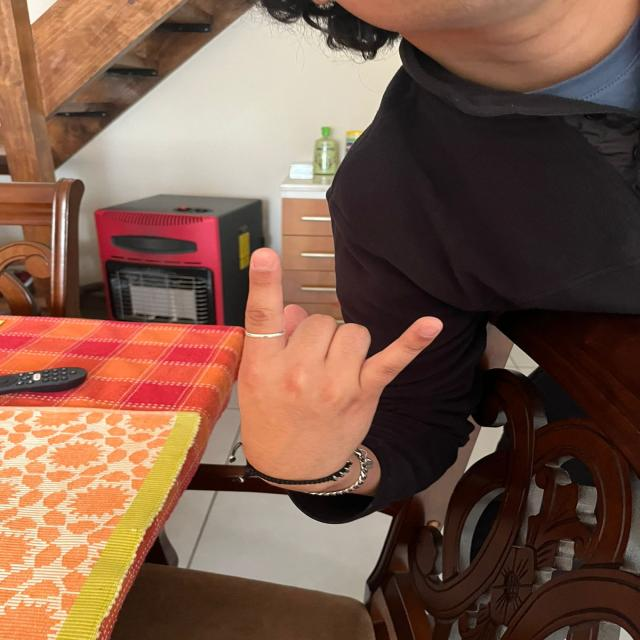U: (235, 244, 442, 475)
